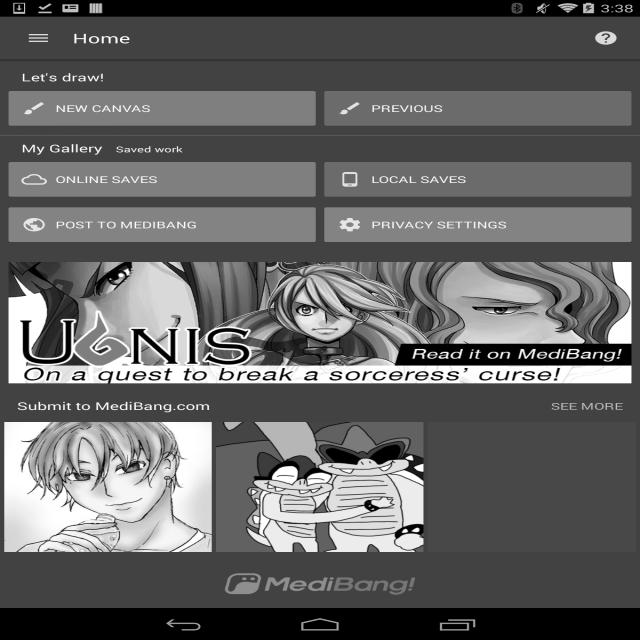Button: (4, 87, 320, 130), (320, 87, 636, 130), (4, 158, 320, 201), (320, 158, 636, 201), (4, 203, 320, 246), (320, 203, 636, 246), (538, 390, 636, 422)
ImageButton: (9, 19, 68, 57)
ImageView: (4, 422, 212, 552), (428, 422, 636, 552), (216, 422, 423, 552), (213, 571, 427, 597)
TextView: (17, 399, 210, 413), (580, 22, 632, 54), (21, 70, 104, 84), (21, 141, 103, 155), (73, 29, 130, 47), (116, 144, 182, 154)
